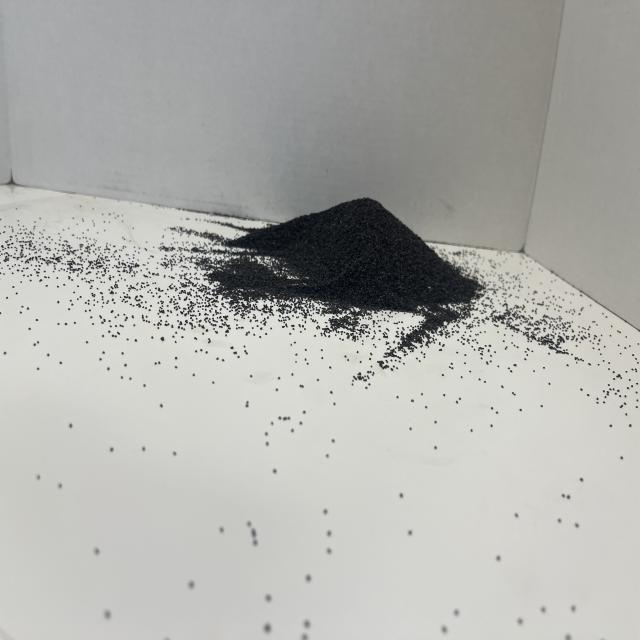Poppy Seeds: (202, 155, 484, 362)
